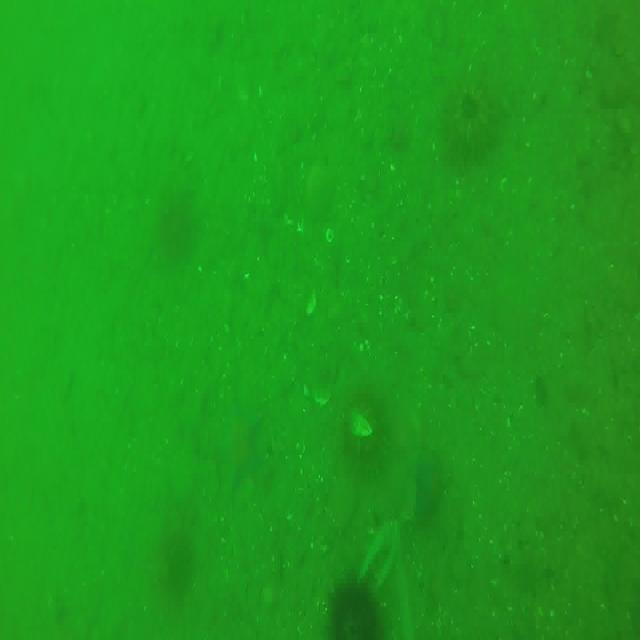echinus: (450, 80, 499, 148), (344, 395, 387, 468), (328, 579, 378, 640), (155, 197, 194, 255), (151, 530, 194, 582)
starfish: (223, 407, 261, 496), (182, 390, 218, 465)
